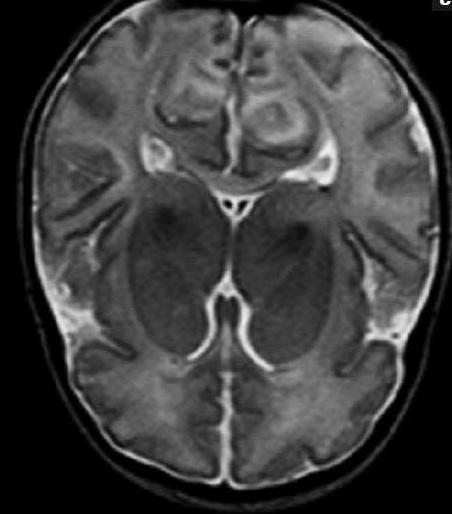Normal_Brain: (1, 1, 452, 506)
